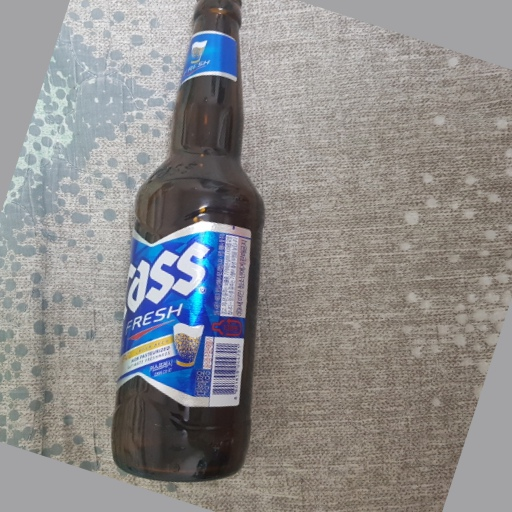Glass_1: (112, 3, 271, 483)
